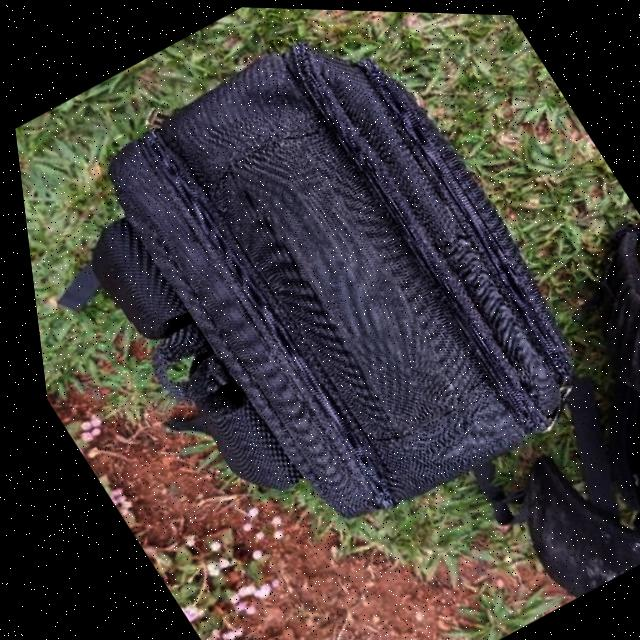canta: (0, 0, 640, 620), (354, 196, 640, 613)
